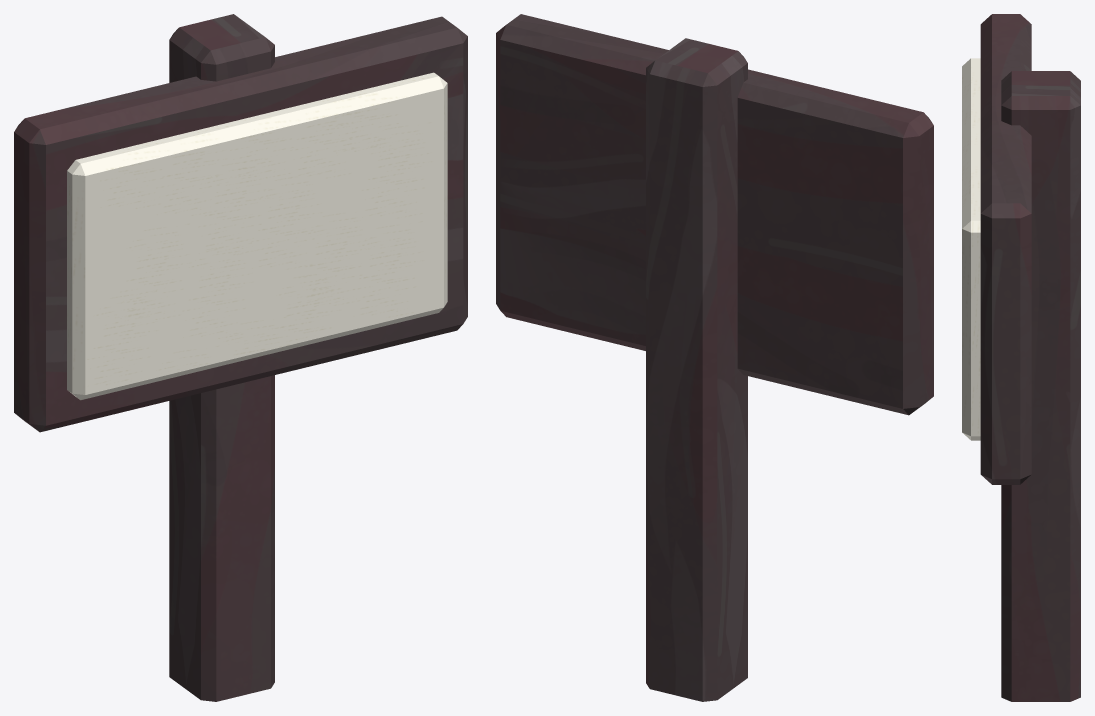
Rendered from Sign.fbx.
The picture shows the model from 3 angles, left to right: view 1: azimuth 30°, elevation 25°; view 2: azimuth 150°, elevation 25°; view 3: azimuth 270°, elevation 25°; orthographic projection. The views are drawn at different scales.
Visible parts, largest first — view 1: sign; view 2: sign; view 3: sign.
Part boxes in pixels (<box>): sign: <box>14,14,467,701</box>; sign: <box>496,14,933,701</box>; sign: <box>962,14,1080,701</box>.
Bounding box in the file's own units: 129 × 181 × 32.42.
